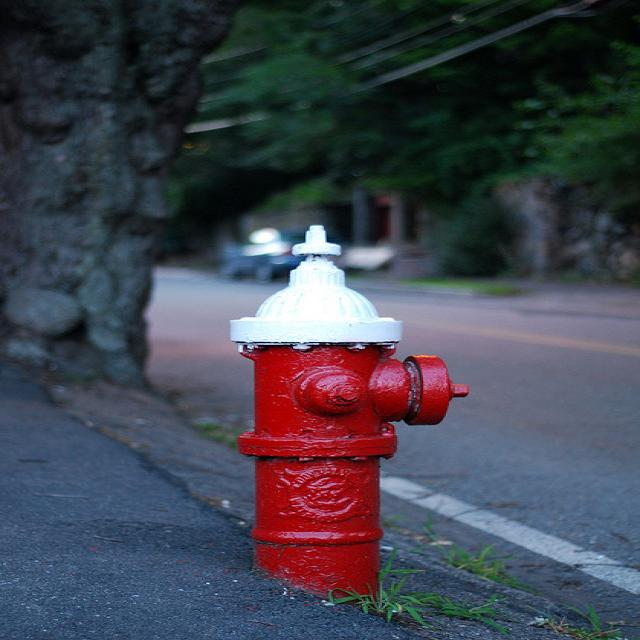Vehicle: (221, 226, 309, 287), (328, 243, 394, 271)
